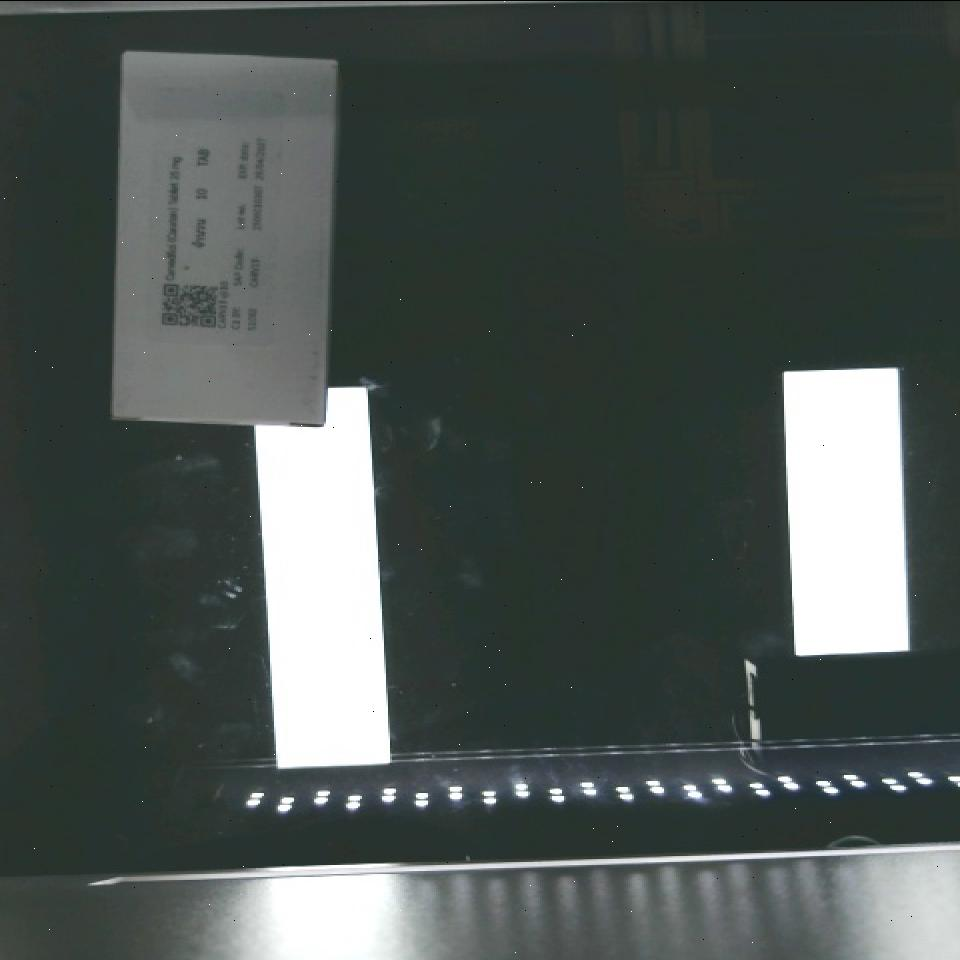medicine_box: (109, 51, 332, 427)
qr_code: (154, 275, 227, 340)
